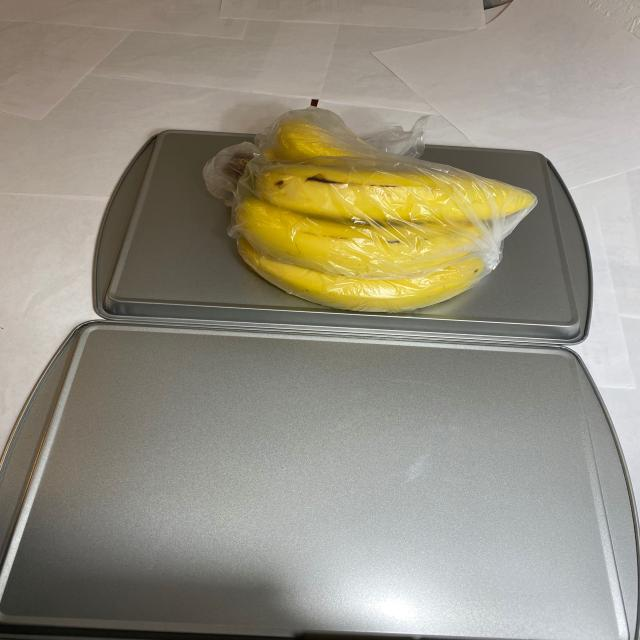banana: (224, 92, 544, 314)
